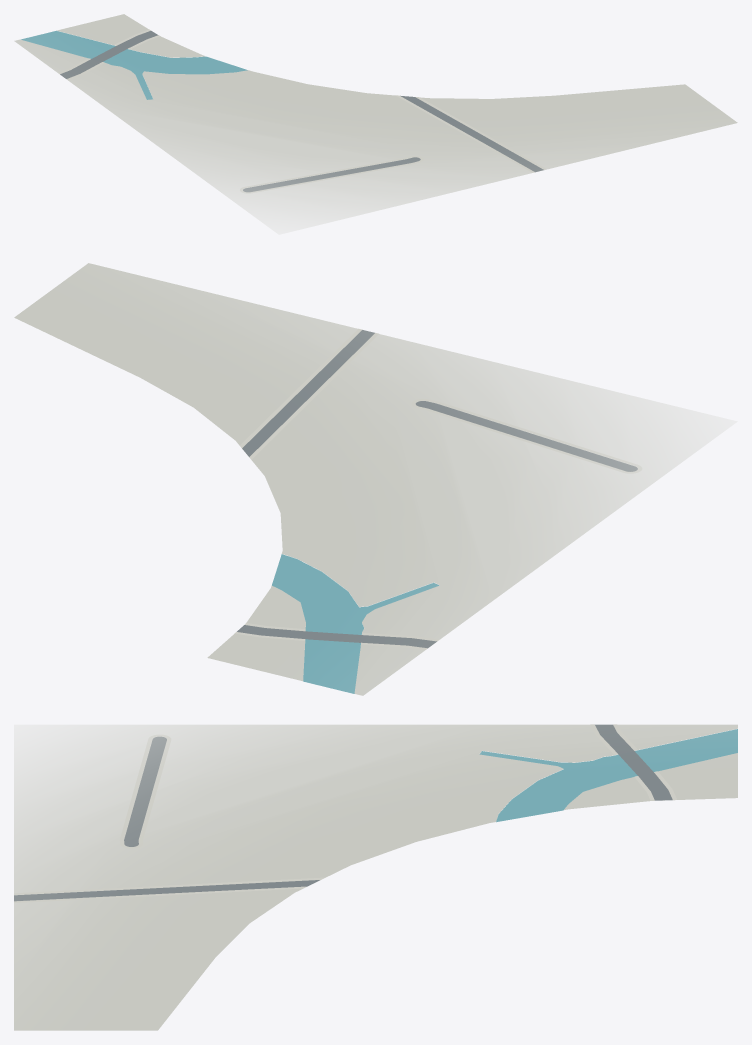
3 renders of one model, top to bottom at view 1: azimuth 30°, elevation 25°; view 2: azimuth 150°, elevation 25°; view 3: azimuth 270°, elevation 25°, orthographic. The views are drawn at different scales.
Visible parts, largest first — view 1: city; view 2: city; view 3: city.
Boxes of the visible parts, x1=… form: city: x1=14, y1=14, x2=737, y2=234; city: x1=14, y1=263, x2=736, y2=695; city: x1=14, y1=724, x2=737, y2=1030.
Bounding box in the file's own units: 500 × 0.4 × 500.
